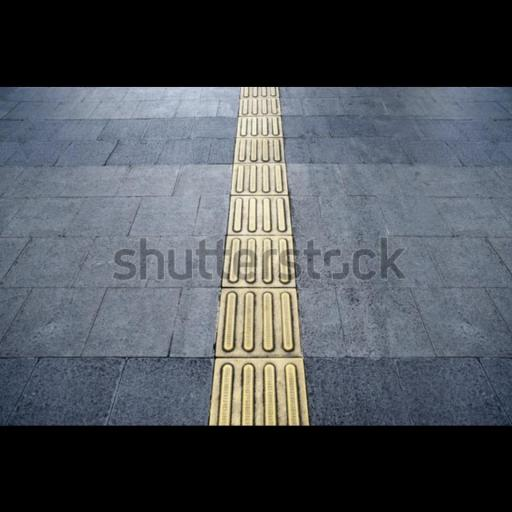line: (210, 357, 310, 426), (218, 286, 302, 358), (226, 193, 294, 236), (230, 160, 292, 194)
